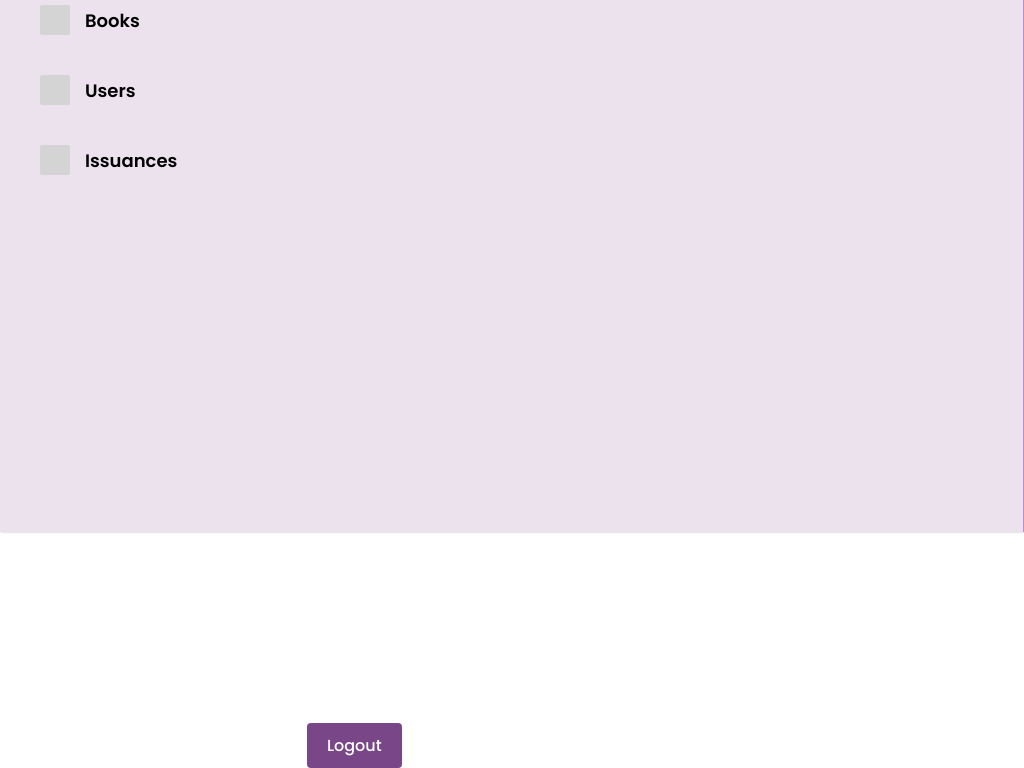
Test case: SideNav Component › closes modal when cancel button is clicked
(page scrolled)
Click the button "Logout" at (354, 745), box left=307, top=722, right=402, bottom=767
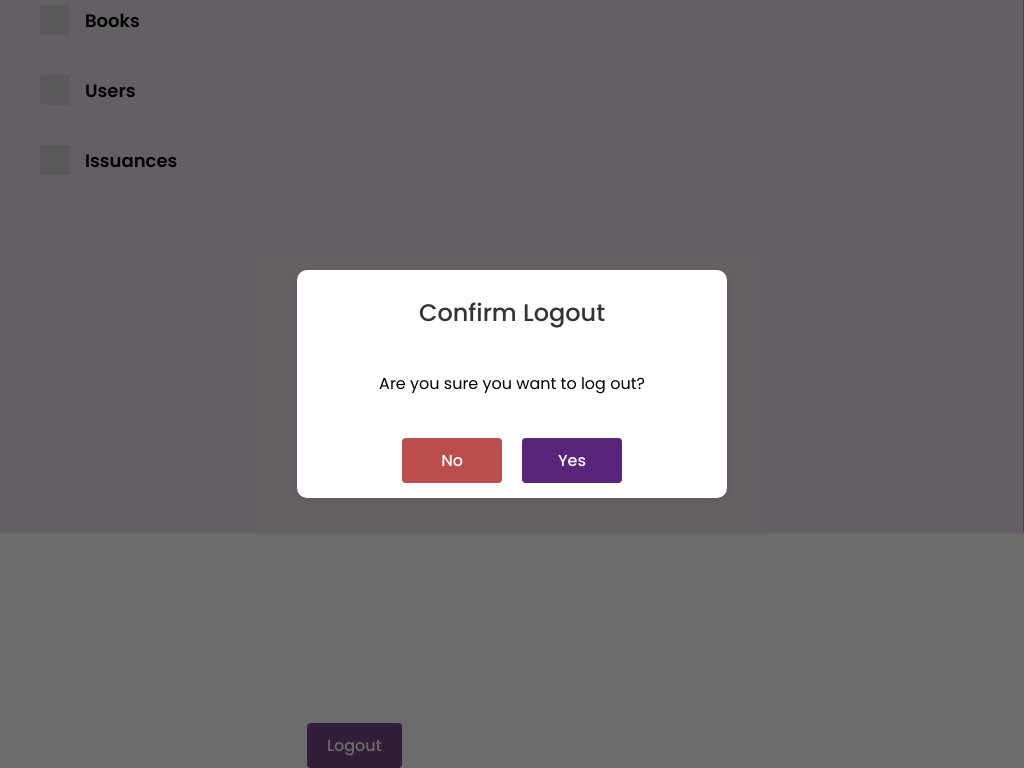
Click the button "No" at (452, 461), box left=402, top=438, right=502, bottom=484
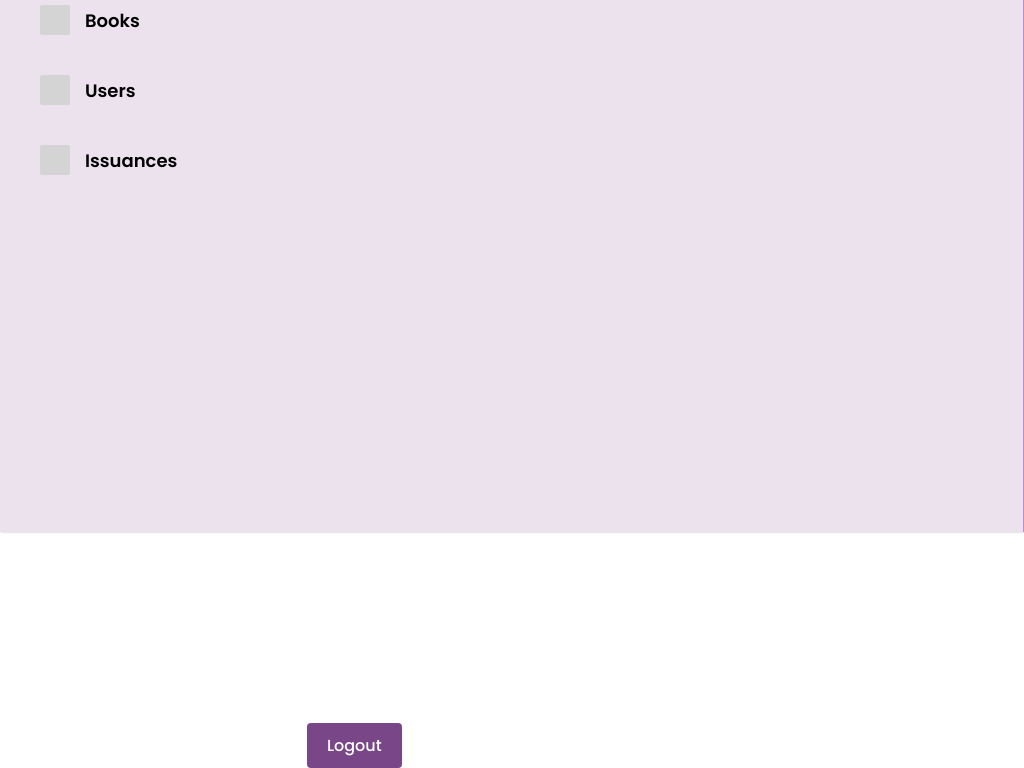
Result: the text "Are you sure you want to log out?" is gone
